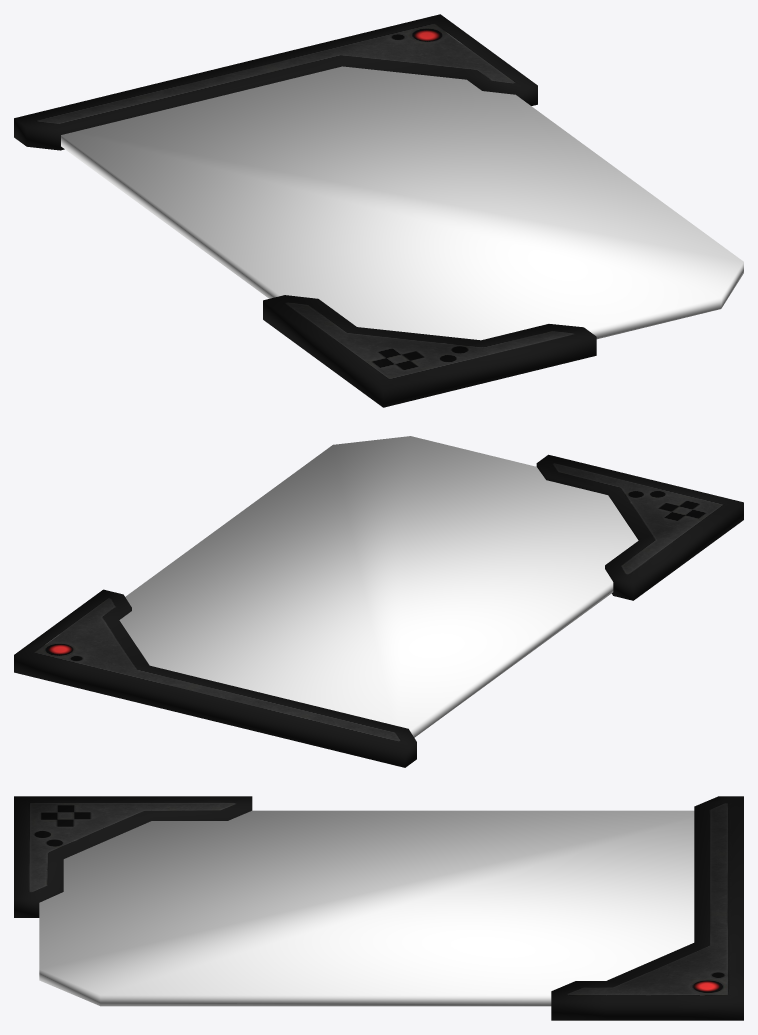
File: low_poly_sci-fi_tablet.gltf
3 views of the same model, one above another, from view 1: azimuth 30°, elevation 25°; view 2: azimuth 150°, elevation 25°; view 3: azimuth 270°, elevation 25° (orthographic). The views are drawn at different scales.
Visible parts, largest first — view 1: Tablet_Low (×2); view 2: Tablet_Low (×2); view 3: Tablet_Low (×2).
Part boxes in pixels (box(x1,y1,x2,y2)): Tablet_Low (×2): box(14, 14, 743, 407); Tablet_Low (×2): box(14, 436, 743, 767); Tablet_Low (×2): box(14, 796, 743, 1020).
Bounding box in the file's own units: 1.33 × 0.0572 × 2.
Materials: 3 (3 with a texture image).
